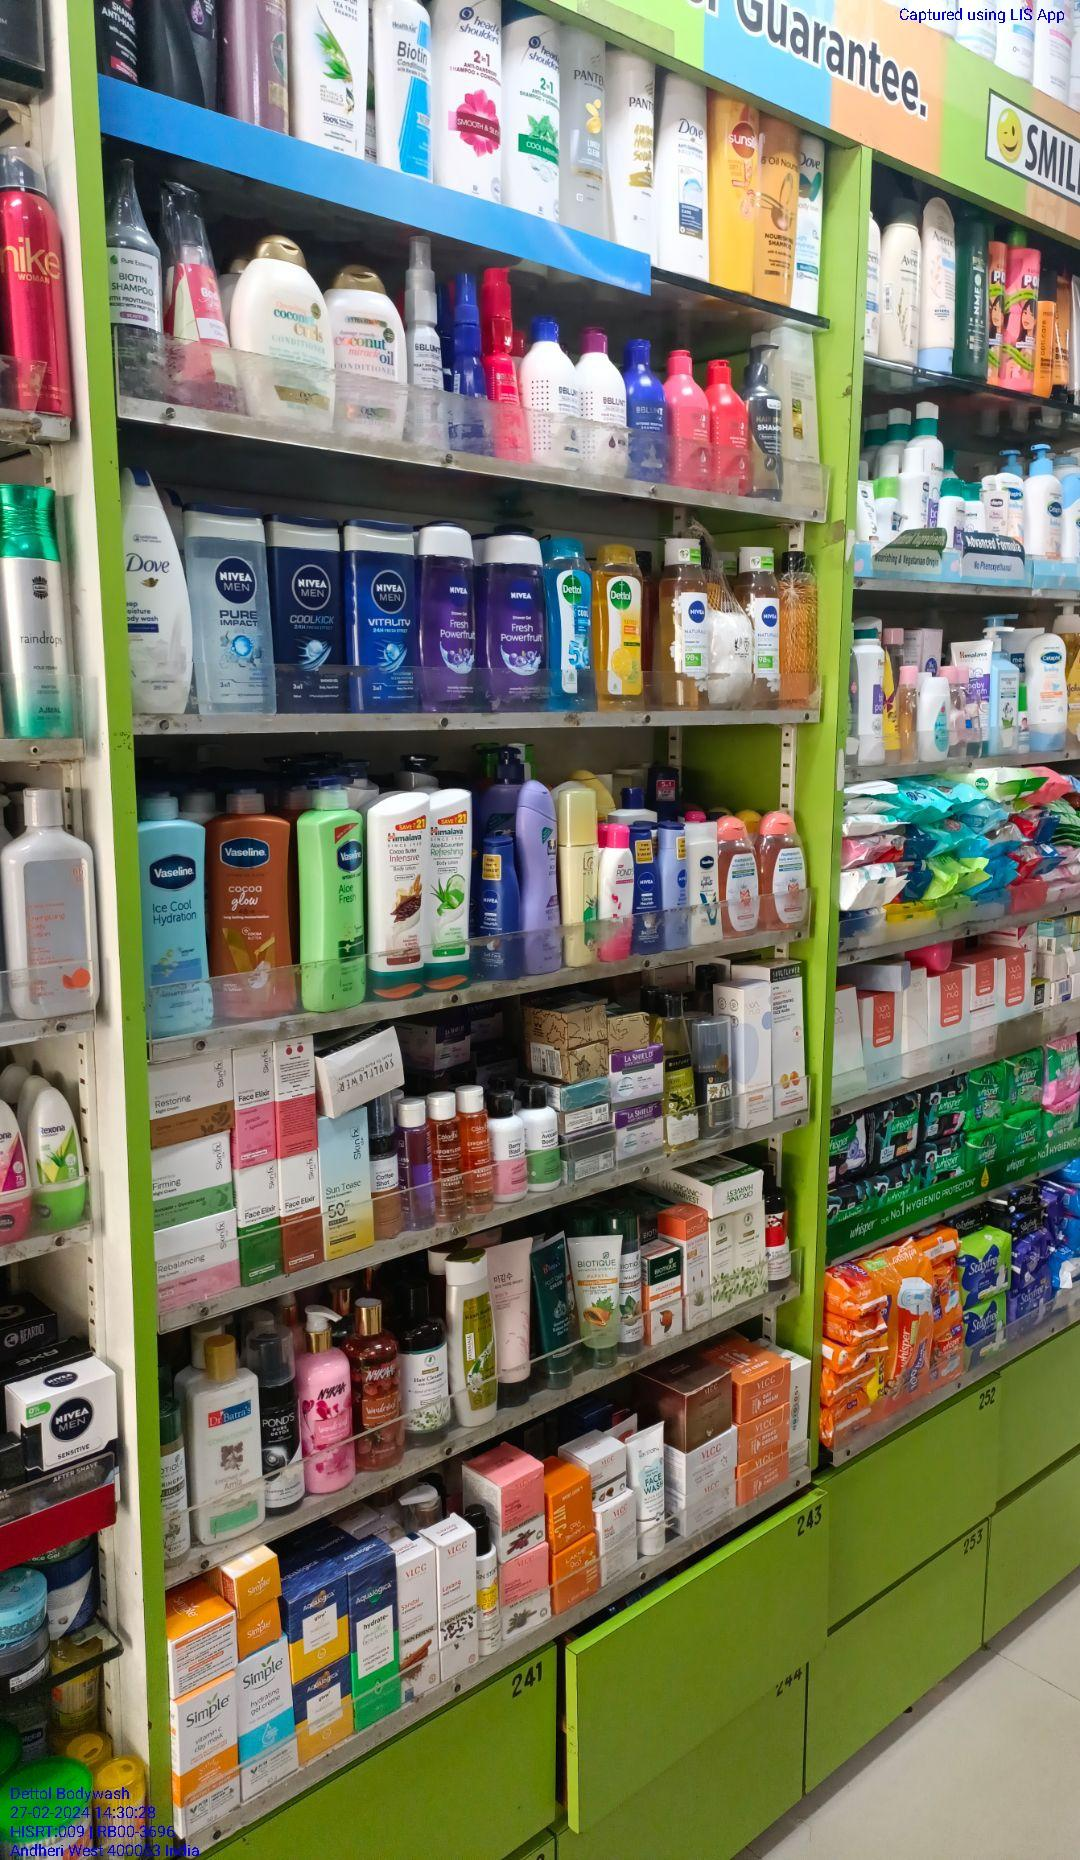Dettol_Bodywash_Cool: (545, 530, 591, 711)
Dettol_Bodywash_Refresh: (599, 535, 647, 710)
Dove_Deep_Moisture_Body_Wash_250ML: (121, 465, 193, 717)
Nivea_Shower_Gel_Fresh_Powerfruit_250ML: (481, 522, 546, 713), (419, 512, 478, 711)
